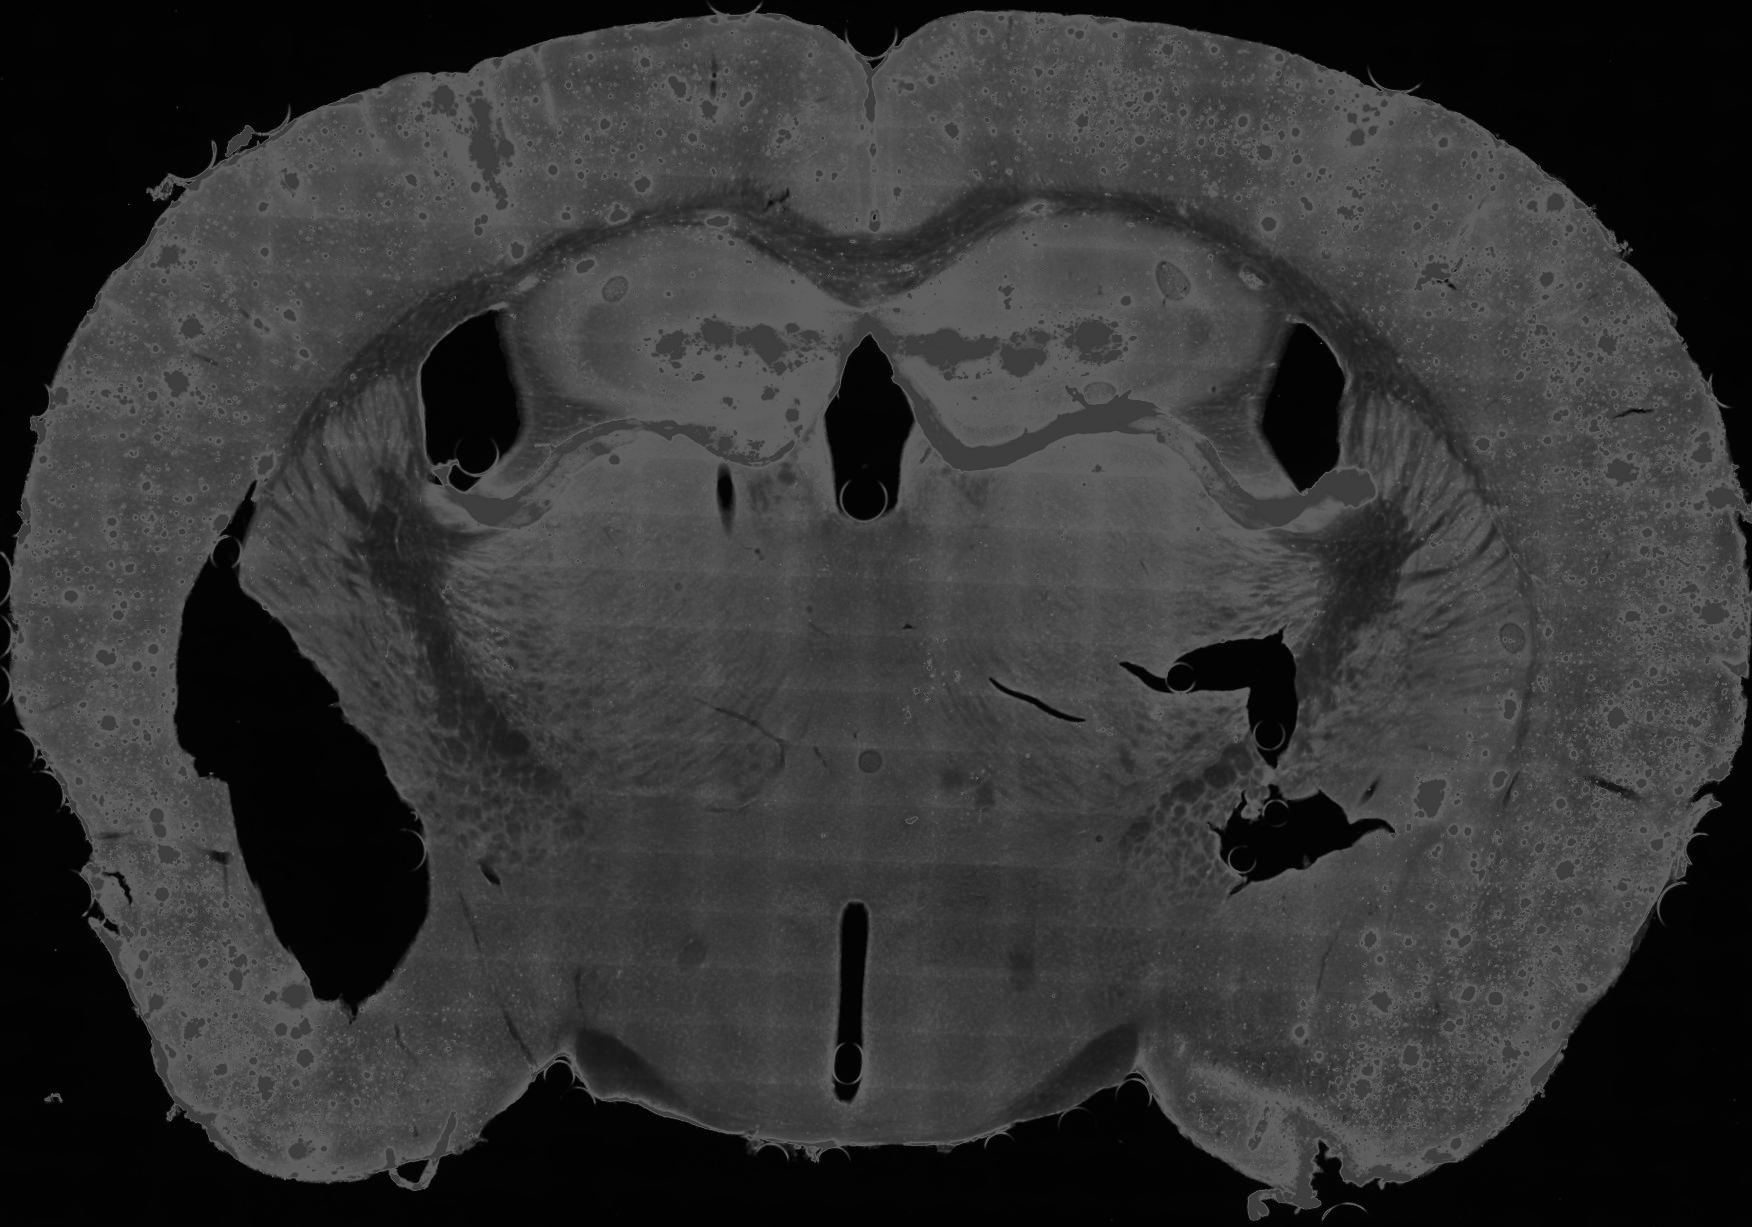Cerebral nuclei: (1342, 377, 1534, 850), (237, 373, 417, 677)
Hippocampal formation: (867, 210, 1269, 472), (525, 226, 865, 460)
Hypothalamus: (477, 797, 855, 1147), (853, 787, 1172, 1146)
Retrosplenial area: (777, 25, 876, 237), (872, 25, 960, 236)
Somatosensory area: (41, 55, 554, 539), (1238, 52, 1687, 476)
Thalamus: (856, 418, 1327, 856), (443, 405, 864, 858)
